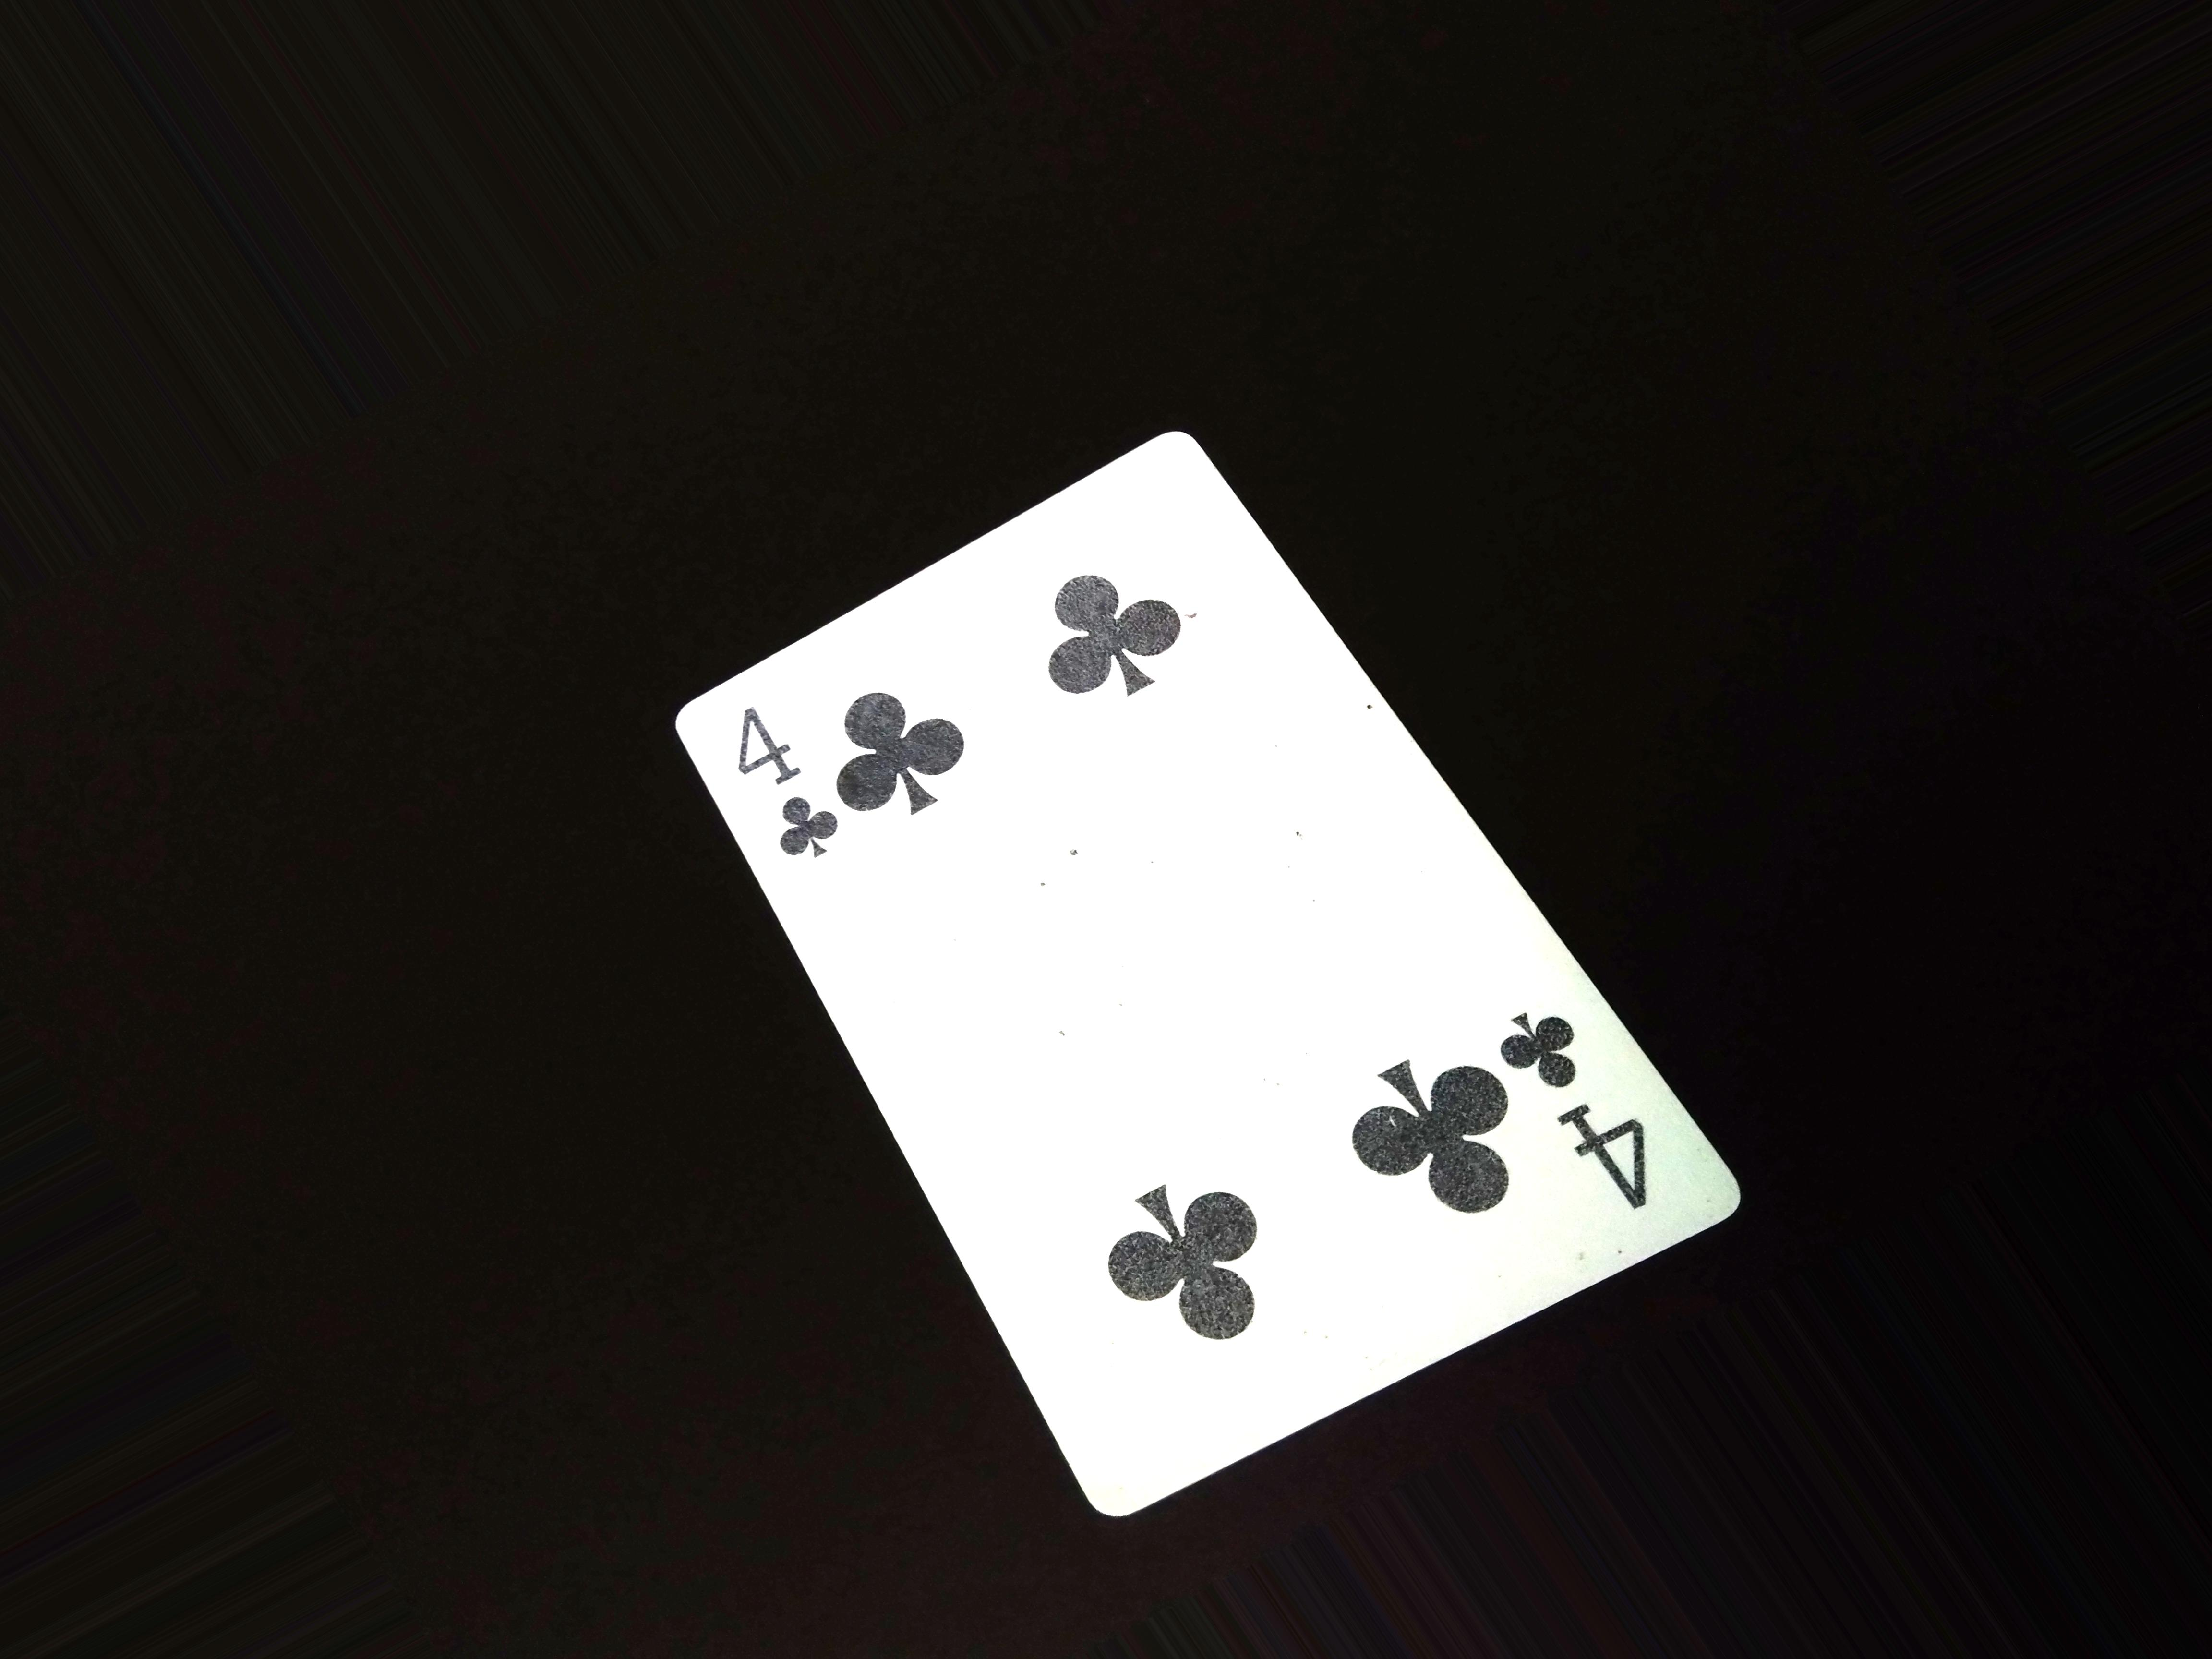4C: (725, 671, 846, 889)
